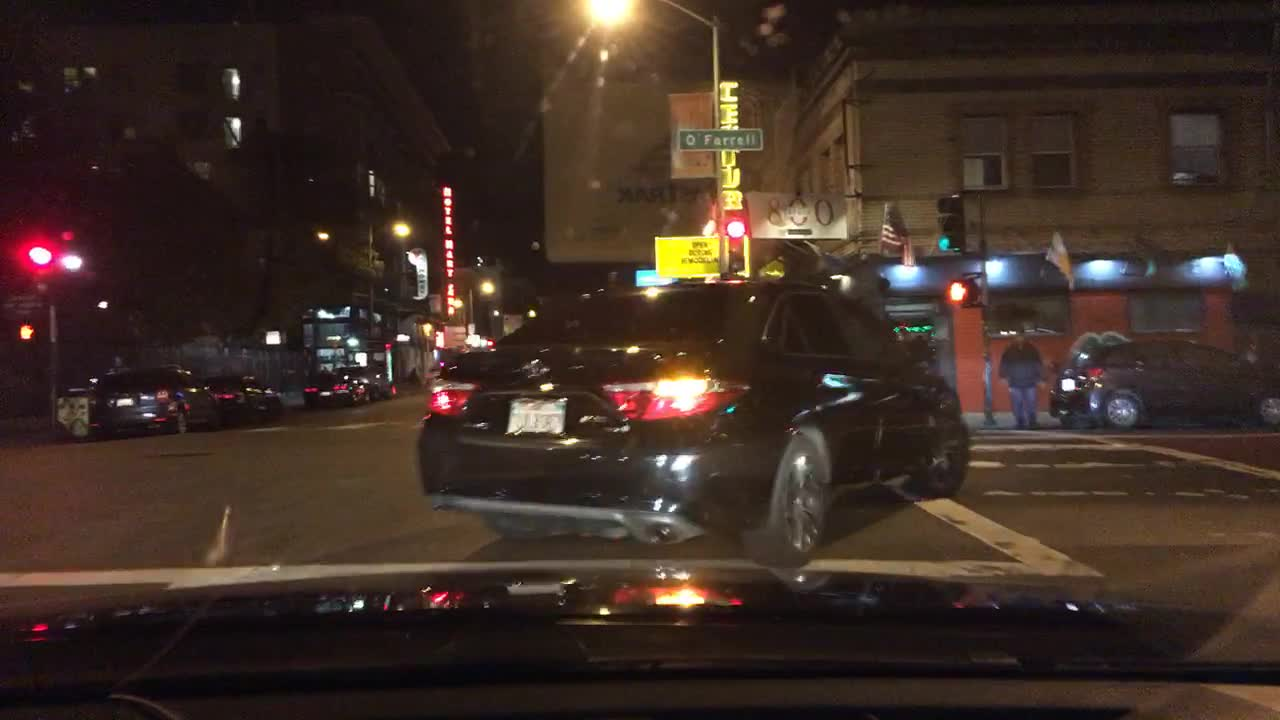car: (415, 277, 968, 570), (1049, 334, 1279, 428), (89, 363, 226, 440), (209, 371, 285, 428), (298, 369, 366, 410), (342, 363, 400, 401), (57, 389, 93, 442)
person: (995, 324, 1048, 430)
traffic light: (935, 192, 968, 255), (28, 239, 50, 293), (943, 278, 978, 307), (724, 218, 744, 268), (17, 320, 39, 341)
traffic sign: (676, 126, 762, 152)
